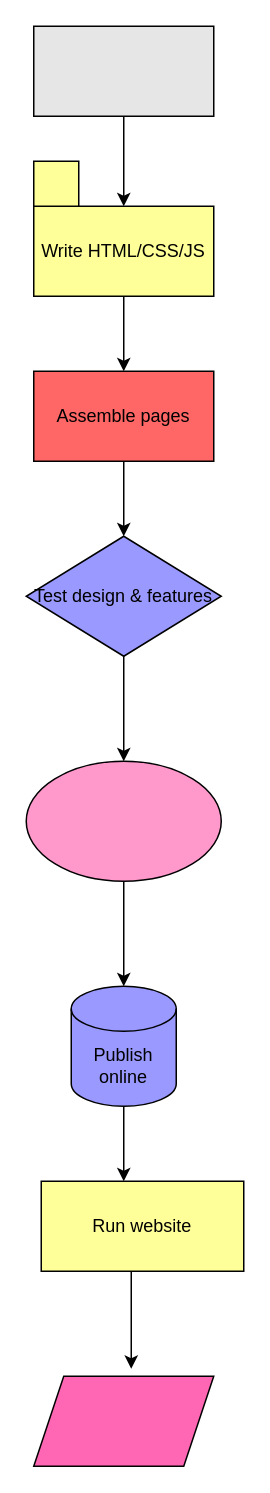
This 270x1493 diagram has some shape labels left out. The shapes that lost their labels are listed below. From the top down, each one's box as (x1, y1, x2, y2) in pixels, then its label:
(32, 25, 214, 116): List Sections & theme
(25, 760, 221, 881): Finalize content
(32, 1375, 214, 1466): Update portfoilo
